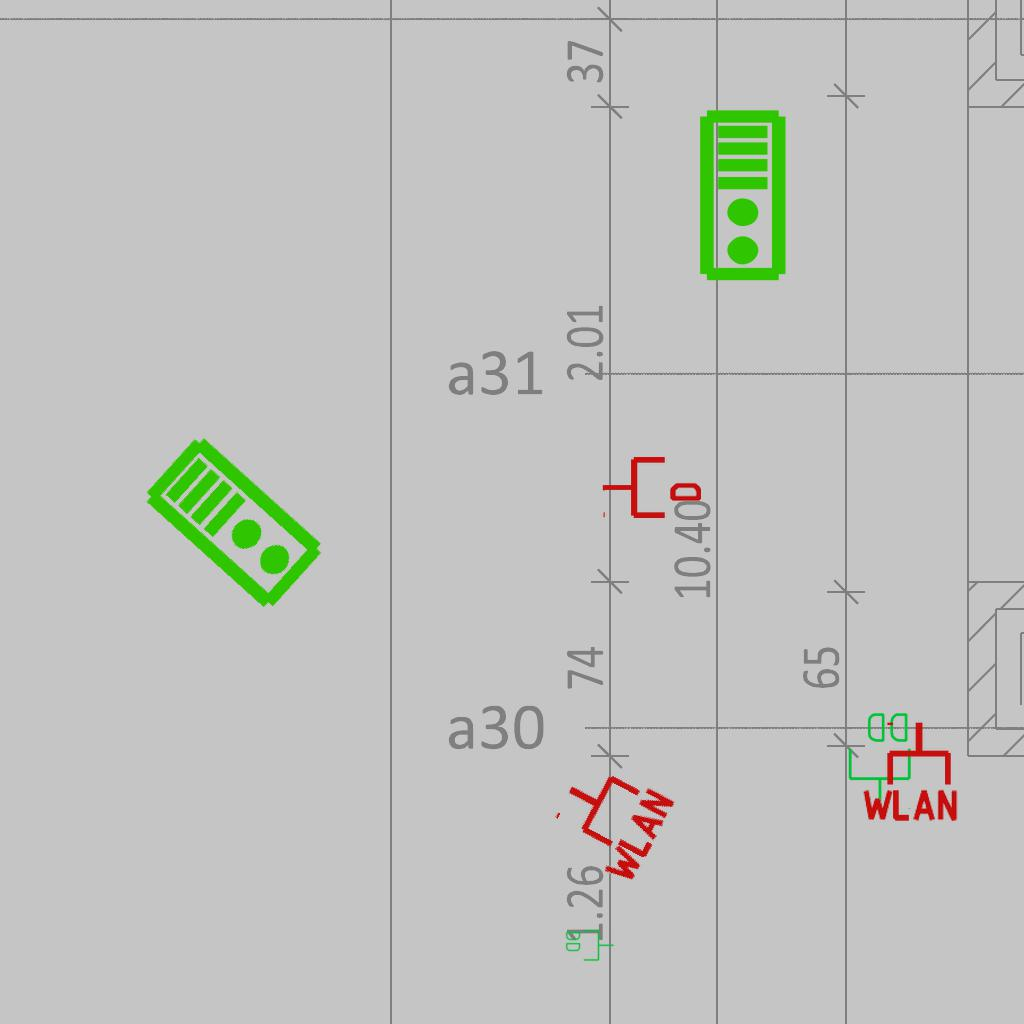Datenanschluss_einfach: (601, 453, 701, 522)
Datenanschluss_zweifach: (846, 709, 915, 812), (564, 928, 615, 962)
Gegensprechanlage_mit_Video: (138, 427, 333, 617), (697, 108, 792, 284)
WLAN: (537, 749, 680, 891), (858, 718, 962, 823)
